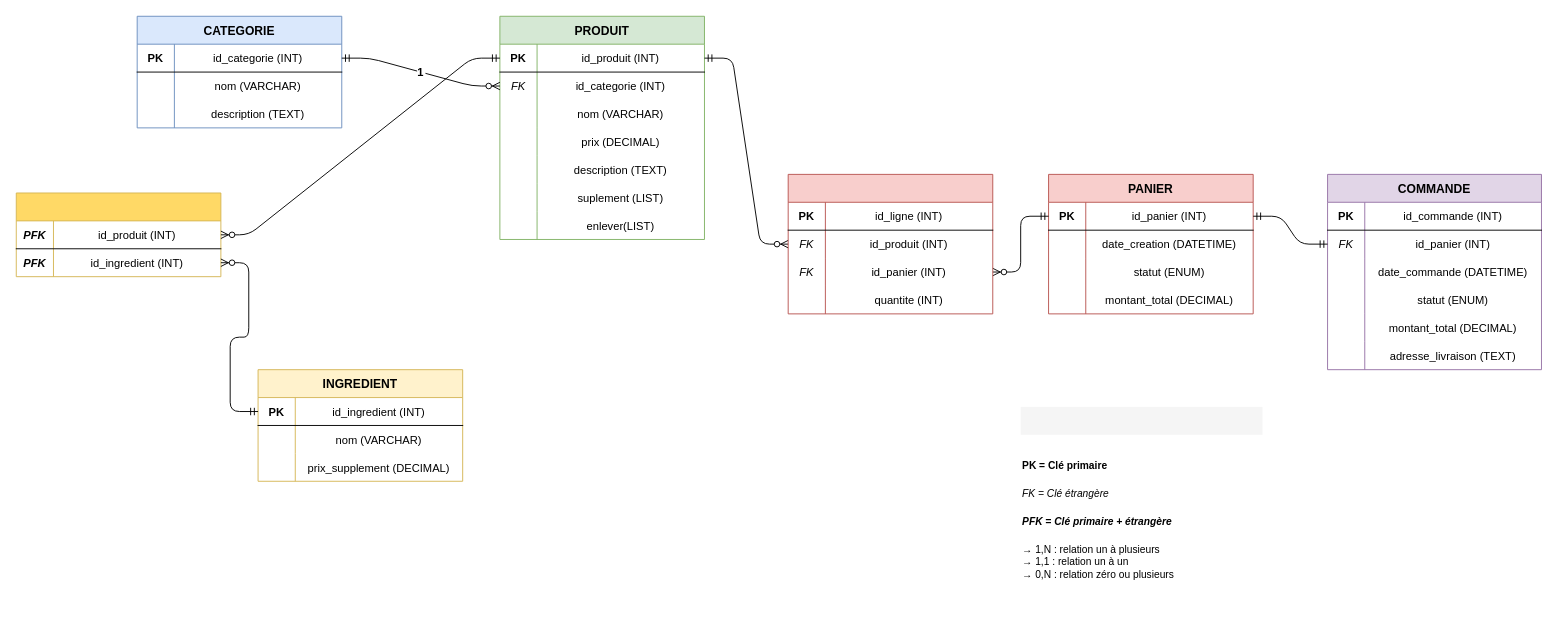
The diagram is 1558 pixels wide and 618 high, and some of its shapes have lost their labels. Here are the shapes that lost their labels. From the top down, the box of each, then its label:
(15, 192, 221, 277): PRODUIT_INGREDIENT
(787, 173, 993, 314): PANIER_PRODUIT
(1020, 406, 1262, 434): LÉGENDE
